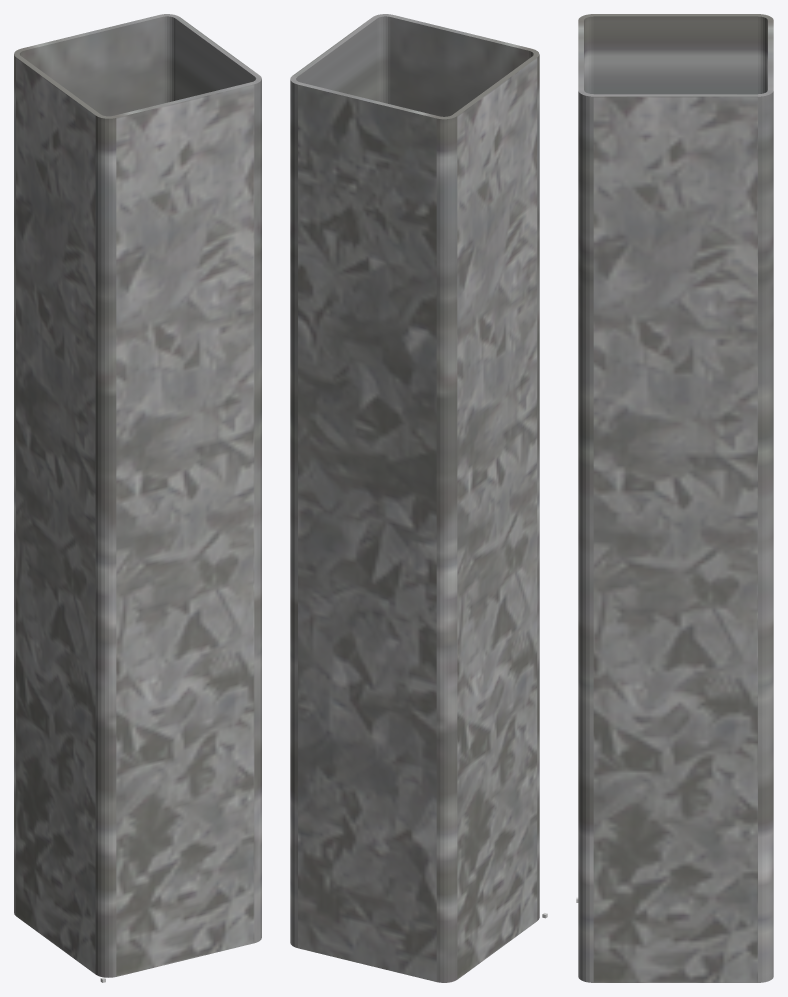
Rendered from SHS 100x3.gltf.
3 views of the same model, side by side, from view 1: azimuth 30°, elevation 25°; view 2: azimuth 150°, elevation 25°; view 3: azimuth 270°, elevation 25° (orthographic). The views are drawn at different scales.
Visible parts, largest first — view 1: SHS 100x3; view 2: SHS 100x3; view 3: SHS 100x3.
Boxes of the visible parts, <box> form: SHS 100x3: <box>14,14,261,977</box>; SHS 100x3: <box>290,14,539,982</box>; SHS 100x3: <box>578,14,773,982</box>.
Size of the model in its own units: 101 by 501 by 101.
Materials: 2 (1 with a texture image).
